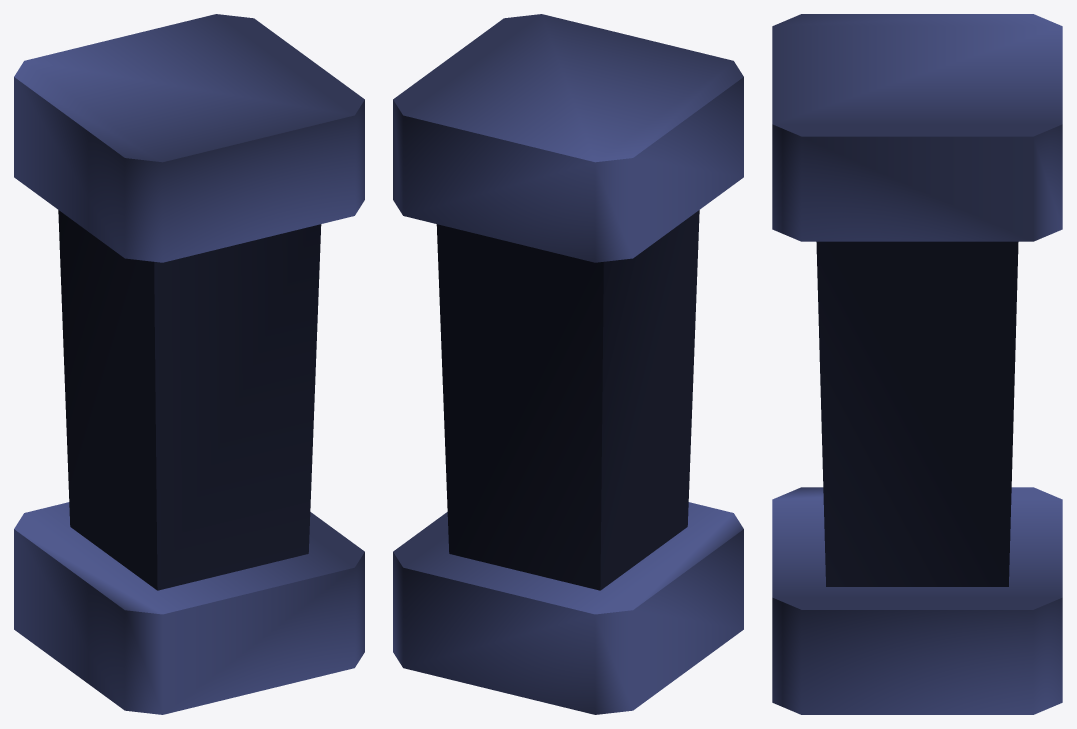
The model's file is column.obj.
3 views of the same model, side by side, from view 1: azimuth 30°, elevation 25°; view 2: azimuth 150°, elevation 25°; view 3: azimuth 270°, elevation 25° (orthographic). The views are drawn at different scales.
Parts seen in each view (by area): view 1: column; view 2: column; view 3: column.
Part boxes in pixels (bbox=[...]): column: bbox=[14, 14, 364, 714]; column: bbox=[393, 14, 743, 714]; column: bbox=[772, 14, 1062, 714].
Bounding box in the file's own units: 0.5 × 1.1 × 0.5.
